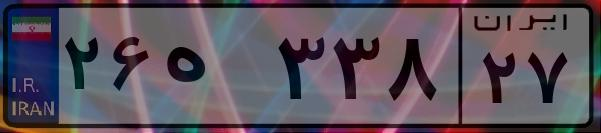2: (57, 26, 110, 100), (475, 38, 525, 113)
3: (270, 28, 330, 110), (330, 28, 385, 110)
6: (110, 28, 158, 98)
7: (525, 38, 570, 115)
8: (385, 28, 445, 110)
ه: (158, 20, 270, 120)
